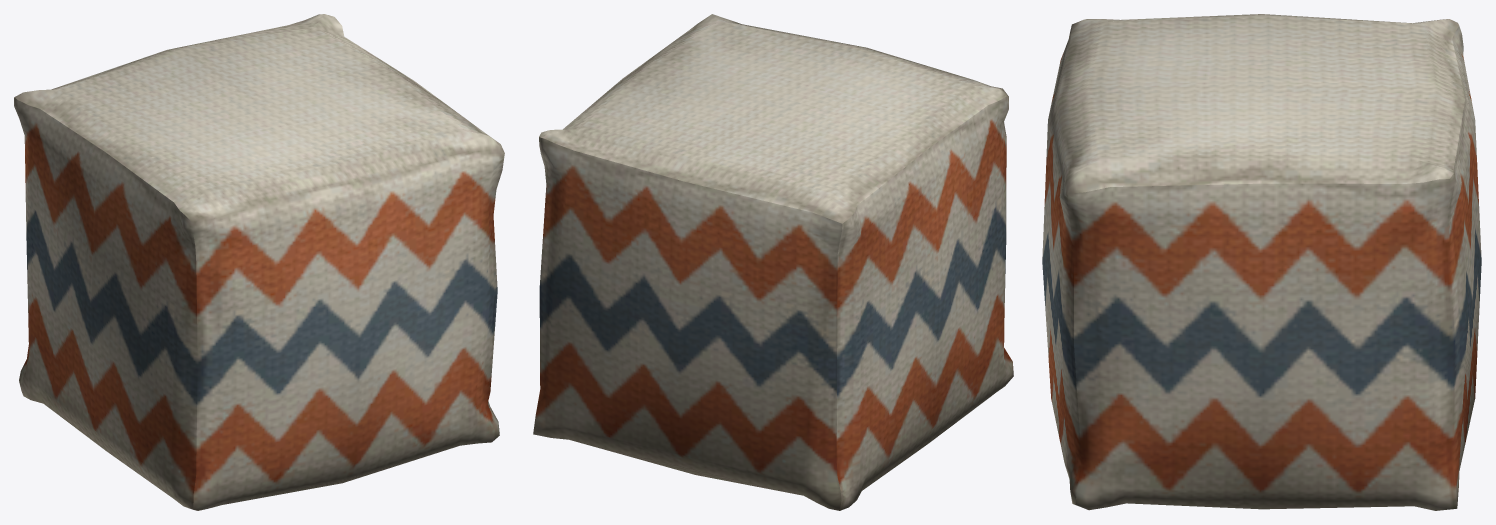
The model's file is ModernPouffe.fbx.
3 renders of one model, left to right at view 1: azimuth 30°, elevation 25°; view 2: azimuth 150°, elevation 25°; view 3: azimuth 270°, elevation 25°, orthographic. The views are drawn at different scales.
Visible parts, largest first — view 1: TinyLiving_ModernPouffe; view 2: TinyLiving_ModernPouffe; view 3: TinyLiving_ModernPouffe.
Part boxes in pixels (x1,y1,x2,y2): TinyLiving_ModernPouffe: [14, 14, 504, 510]; TinyLiving_ModernPouffe: [533, 14, 1013, 510]; TinyLiving_ModernPouffe: [1042, 14, 1481, 510].
Size of the model in its own units: 59.39 by 52.9 by 60.43.
